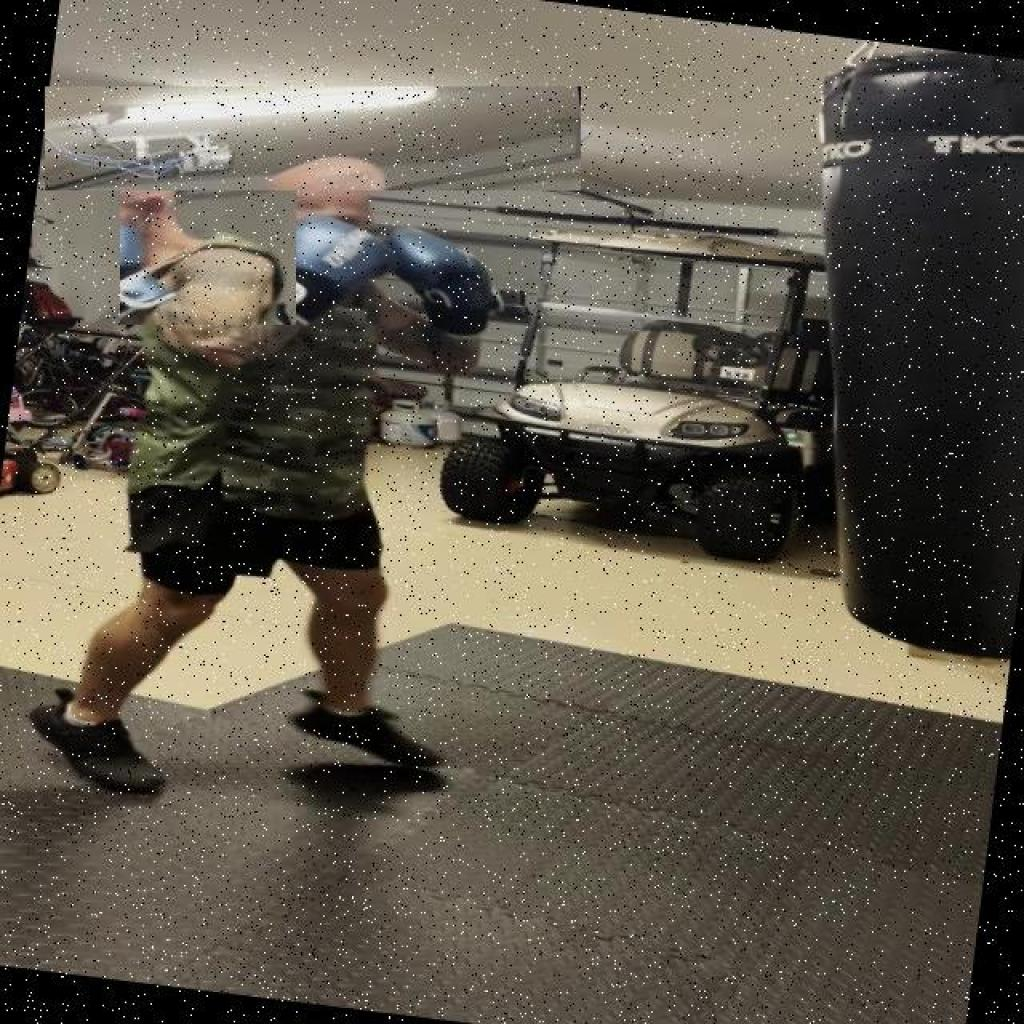bag: (47, 88, 581, 190), (121, 191, 296, 325)
